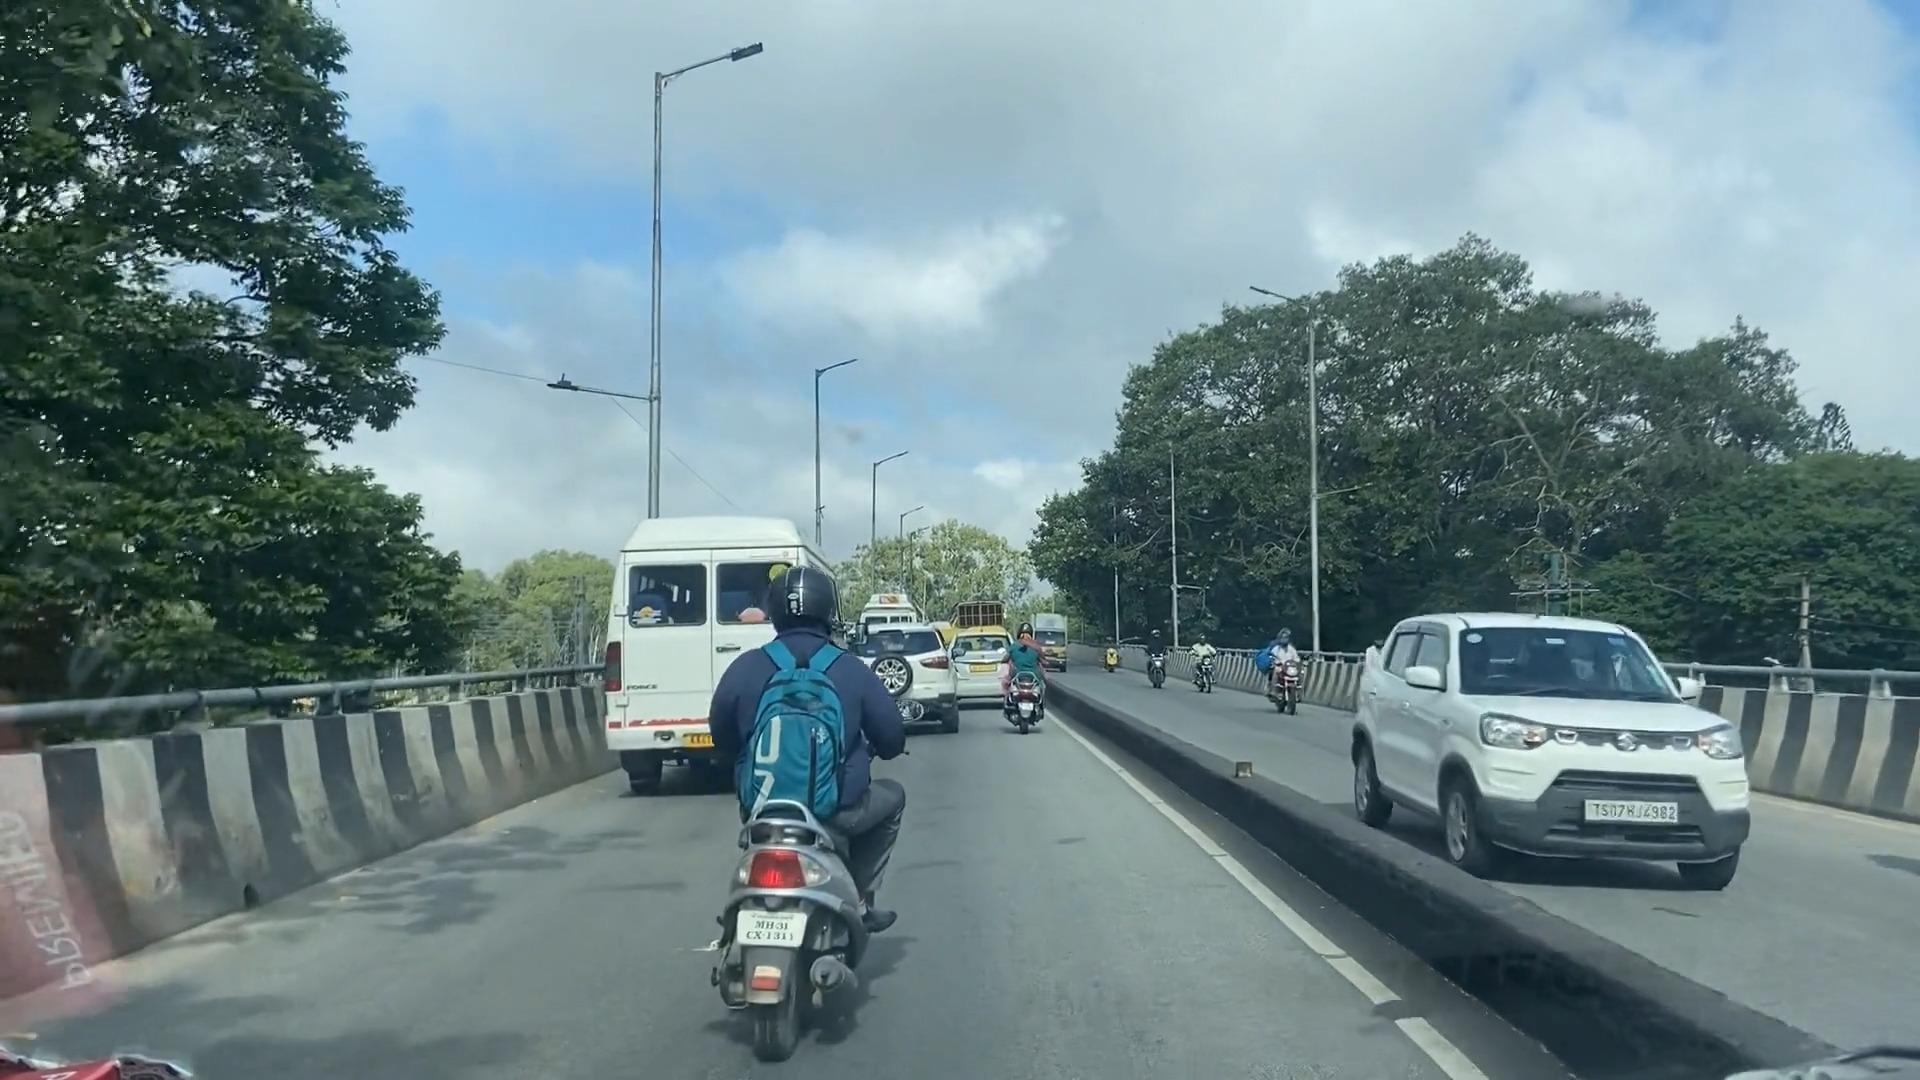LMV: (703, 575, 898, 1044), (1001, 617, 1034, 723)
